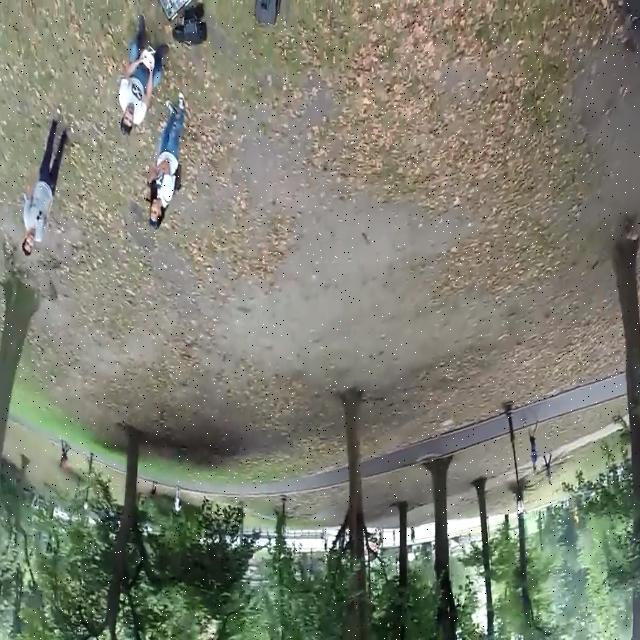humans: (22, 111, 68, 259), (142, 94, 185, 232), (119, 16, 167, 138), (527, 422, 540, 472), (171, 484, 183, 520), (58, 437, 71, 470), (543, 454, 554, 489), (409, 524, 417, 549), (322, 530, 329, 557), (149, 485, 157, 504)
